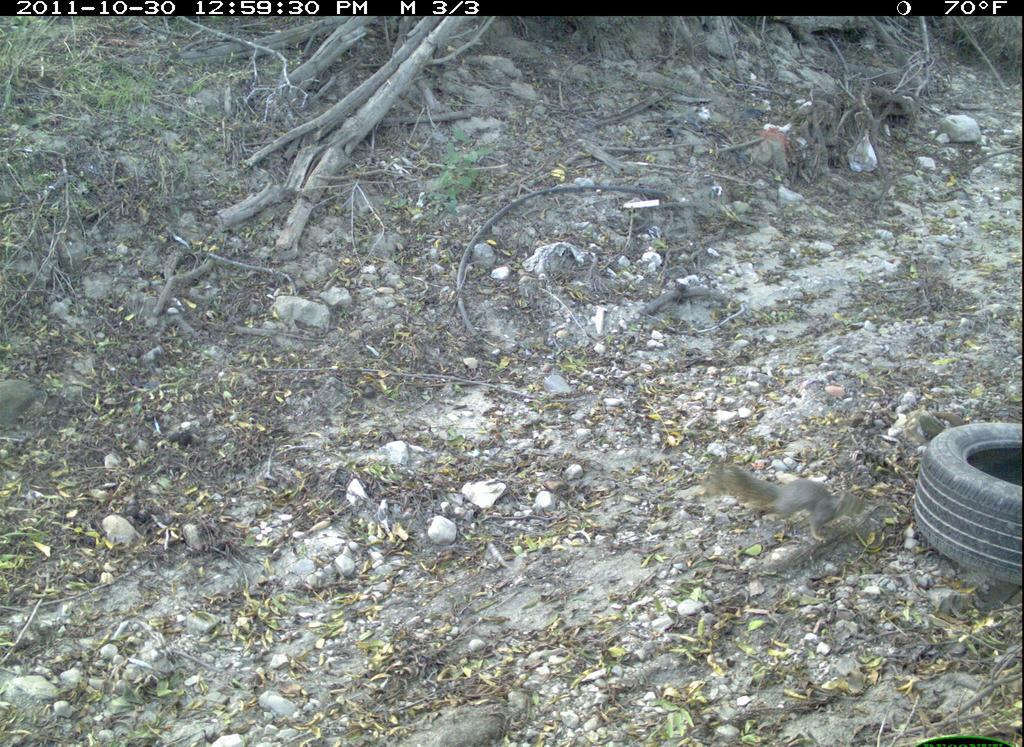squirrel: (701, 454, 879, 547)
